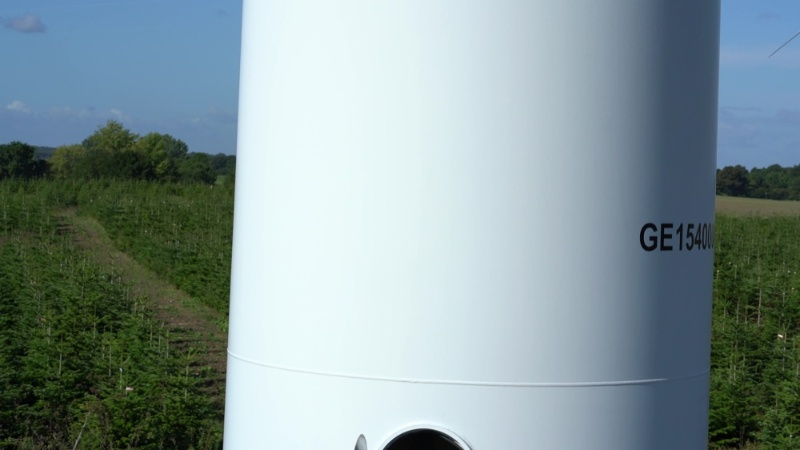weldseam: (225, 343, 711, 390)
